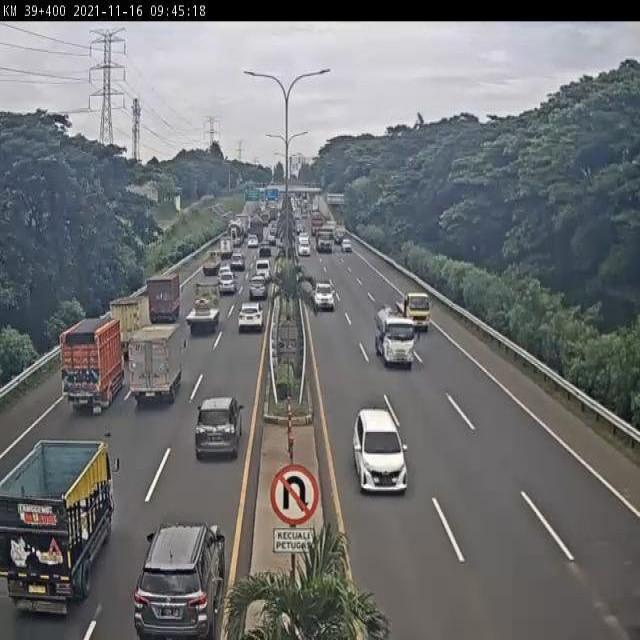car: (133, 521, 225, 640), (352, 406, 408, 494), (195, 399, 242, 457), (238, 303, 263, 329), (315, 280, 336, 308), (248, 277, 268, 303), (226, 253, 245, 276), (218, 273, 235, 295)
small bus: (254, 260, 273, 281)
small truck: (124, 329, 178, 407), (376, 307, 417, 368), (108, 295, 150, 349), (396, 287, 432, 333), (202, 250, 222, 274)
truck-m-: (0, 438, 115, 610), (62, 316, 124, 409), (185, 284, 223, 333), (148, 272, 180, 325)
